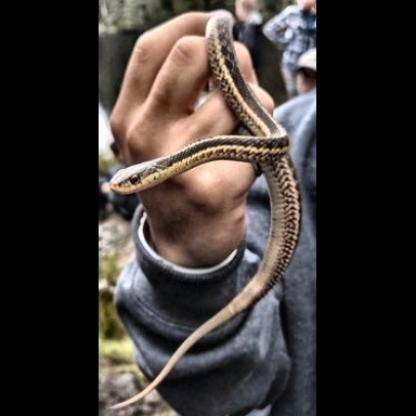Snake: (107, 5, 304, 412)
